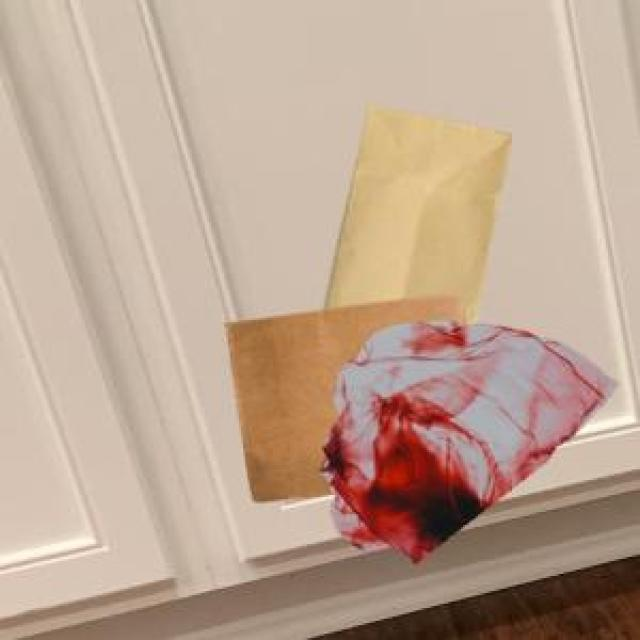paper: (222, 288, 460, 497), (320, 102, 508, 320)
